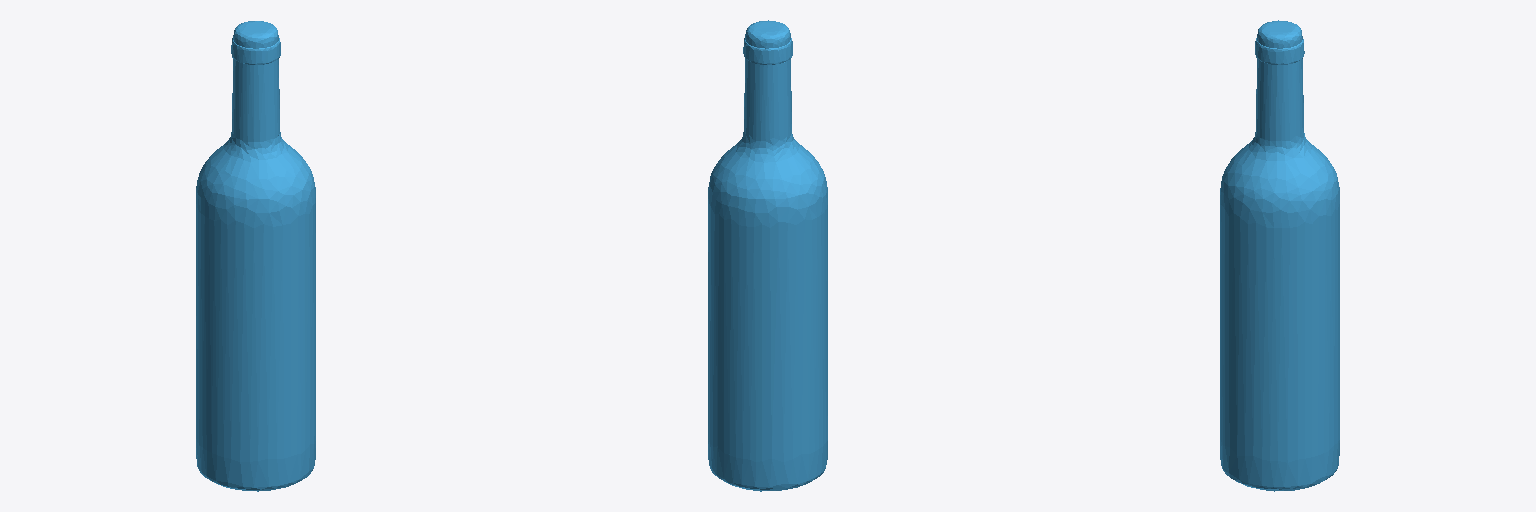
URDF robot description (bottle):
<?xml version="1.0" ?>
<robot name="bottle">
	<link name="base"/>
	<link name="body">
		<visual>
			<origin xyz = "0 0 0"/>
			<geometry>
				<mesh filename="package://objects_description/simplebottle/bottle.stl" />
			</geometry>
		</visual>
		<collision>
			<origin xyz="0 0 0"/>
			<geometry>
				<mesh filename="package://objects_description/simplebottle/bottle.stl" />
			</geometry>
		</collision>
		<inertial>
			<mass value="1.2"/>
			<inertia ixx="0.0" ixy="0.0" ixz="0.0" iyy="0.0" iyz="0.0" izz="0.04" />
		</inertial>
	</link>
	<joint name="joint_0" type="fixed">
		<origin rpy="0 0 0" xyz="0 0 0"/>
		<child link="body"/>
		<parent link="base"/>
	</joint>
</robot>

--- Facts derived from the render (not from the file) ---
3 views of the same robot in one strip: view 1: azimuth 30°, elevation 25°; view 2: azimuth 150°, elevation 25°; view 3: azimuth 270°, elevation 25° (orthographic).
Model bottle with 2 links and 1 joints (1 fixed), rooted at base, posed all joints at 0.
Visible links, largest first — view 1: body; view 2: body; view 3: body.
Boxes of the visible links, x1,y1,x2,y2 form: body: (196,21,315,491); body: (708,20,827,491); body: (1220,20,1339,491).
Bounding box of the posed robot: 0.0519 × 0.0519 × 0.2115 m (x, y, z).
1 mesh visuals loaded from 1 distinct referenced files (1 binary STL).